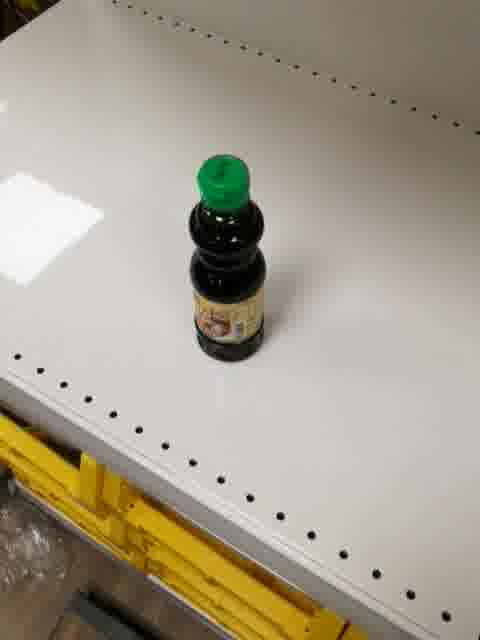cookingoil: (186, 153, 268, 366)
